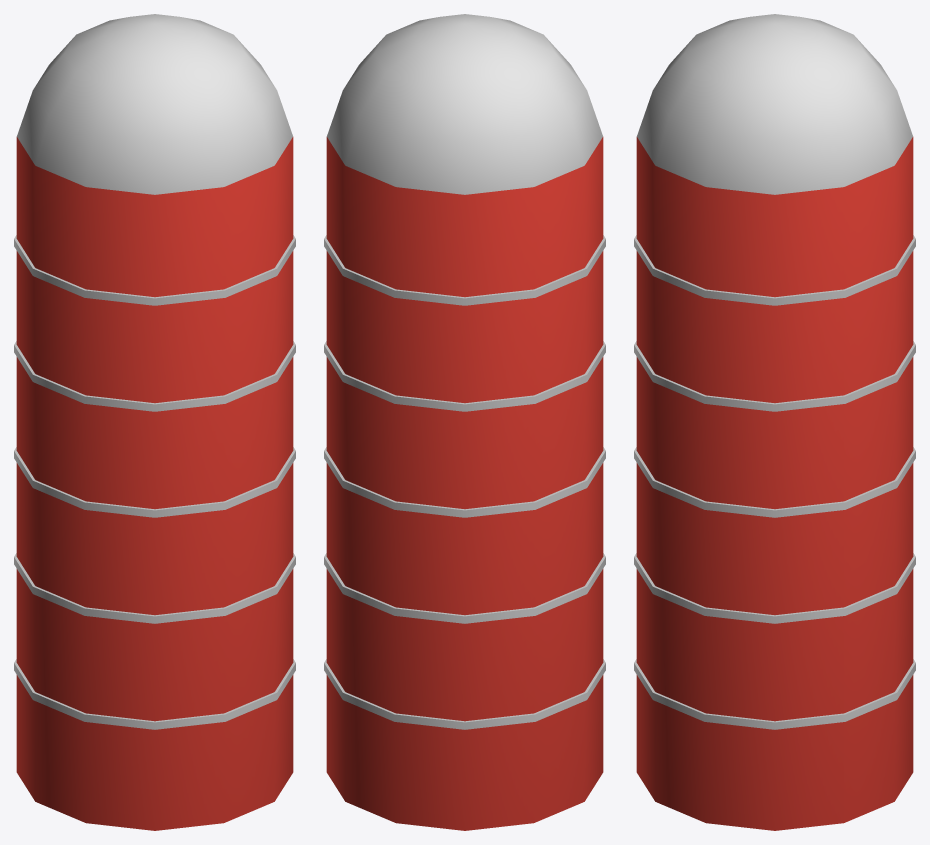
Rendered from tower_002.glb.
The picture shows the model from 3 angles, left to right: view 1: azimuth 30°, elevation 25°; view 2: azimuth 150°, elevation 25°; view 3: azimuth 270°, elevation 25°; orthographic projection.
Visible parts, largest first — view 1: tower_002; view 2: tower_002; view 3: tower_002.
Boxes of the visible parts, x1,y1,x2,y2 form: tower_002: (14,14,295,830); tower_002: (324,14,605,830); tower_002: (634,14,915,830).
Bounding box in the file's own units: 4.18 × 12.25 × 4.18.
1 material, 1 textured.
